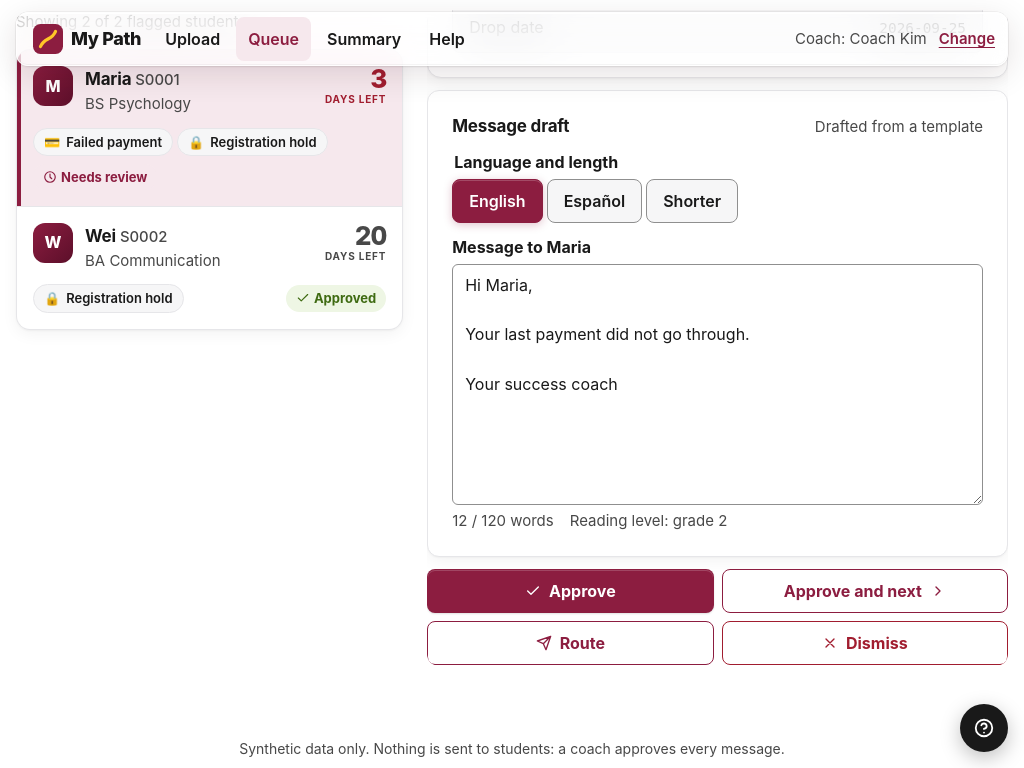
FlagDetailPage › confirms before a redraft replaces edits
The image size is (1024, 768).
(page scrolled)
Type "!" into the text box labelled "Message to Maria" at {"x": 718, "y": 384}, box 452,264 -> 983,505
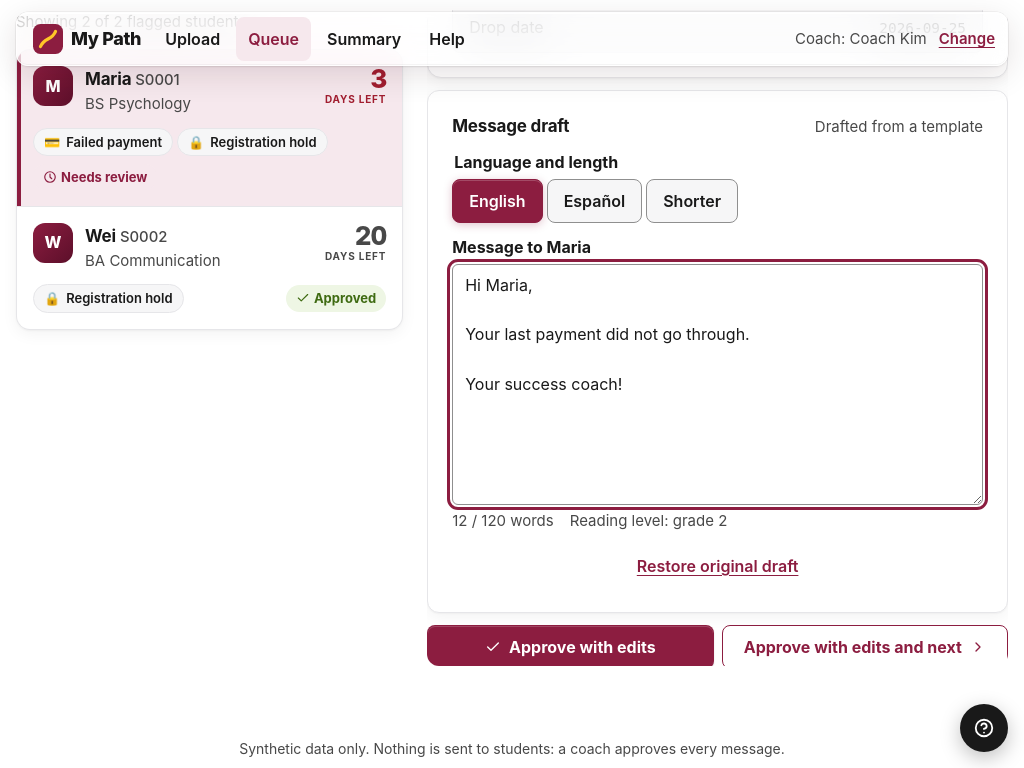
Click the button "Español" at {"x": 594, "y": 201}, box 547,179 -> 642,223
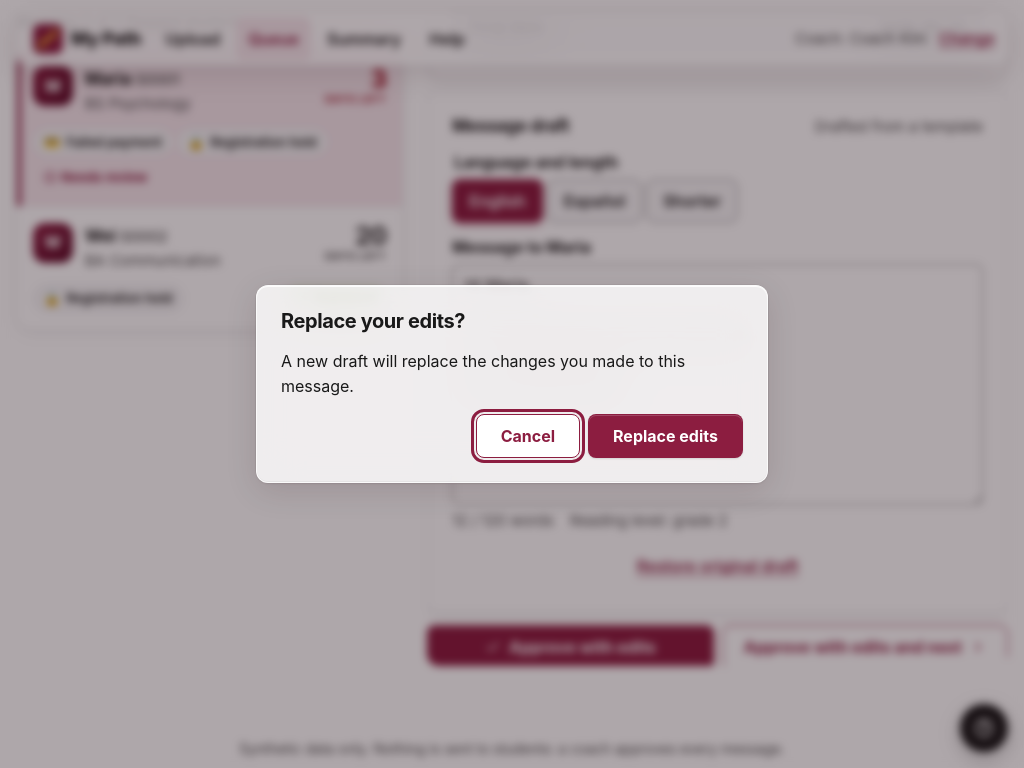
Click the button "Replace edits" at {"x": 666, "y": 436}, box 588,414 -> 743,458
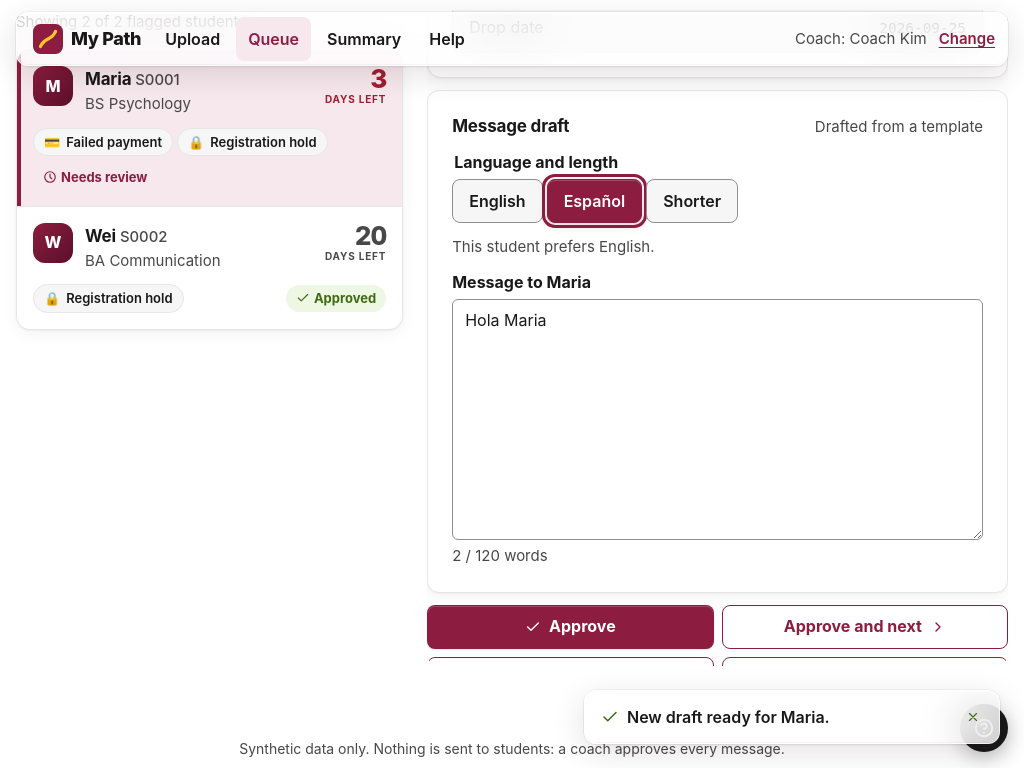
Check: the text box labelled "Message to Maria" holds "Hola Maria", box 452,299 -> 983,540
